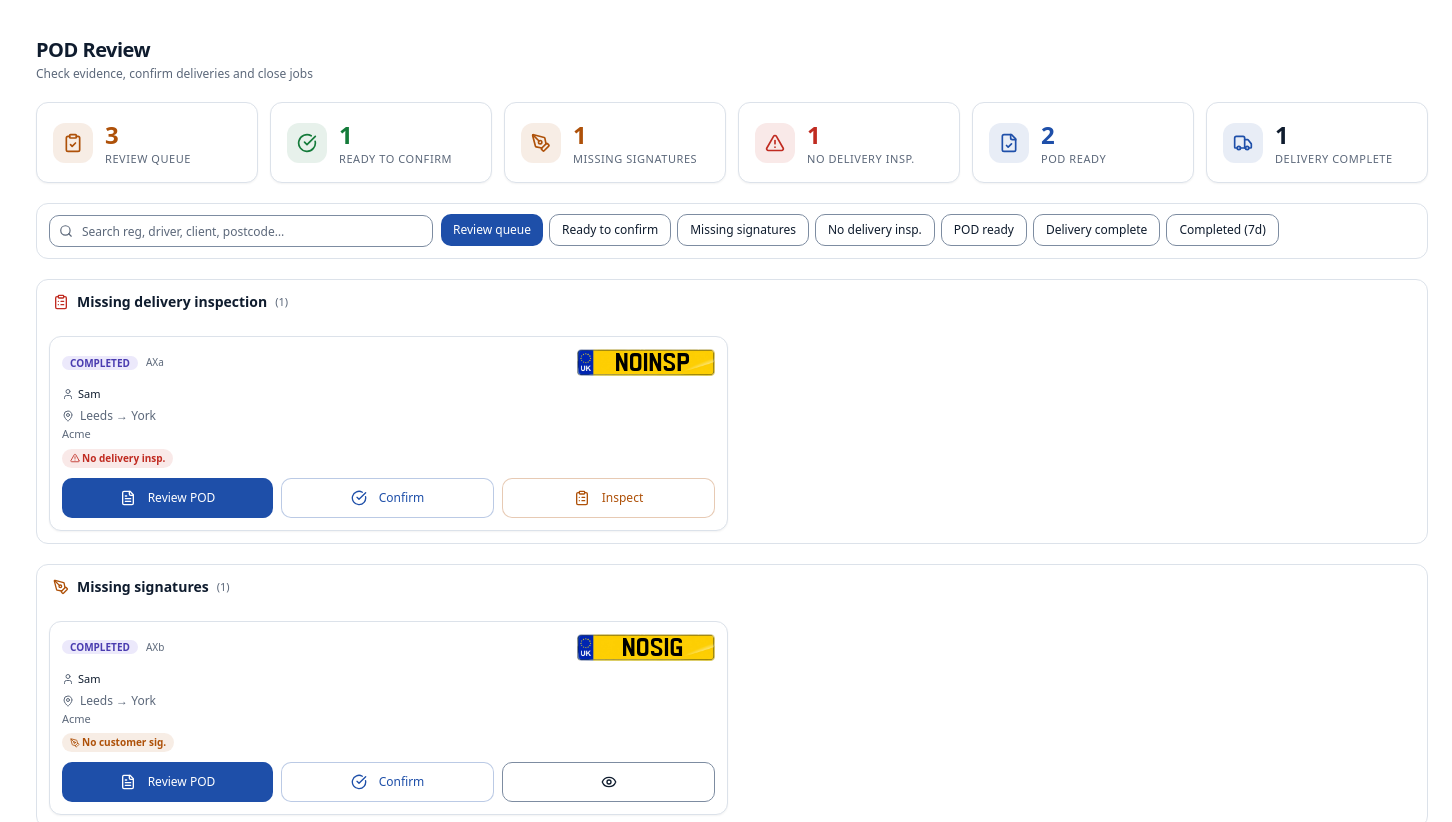
Scenario: POD review screen › Inspect is offered only where the delivery inspection is missing
Click the button "Inspect": (608, 498) [502, 478, 715, 518]
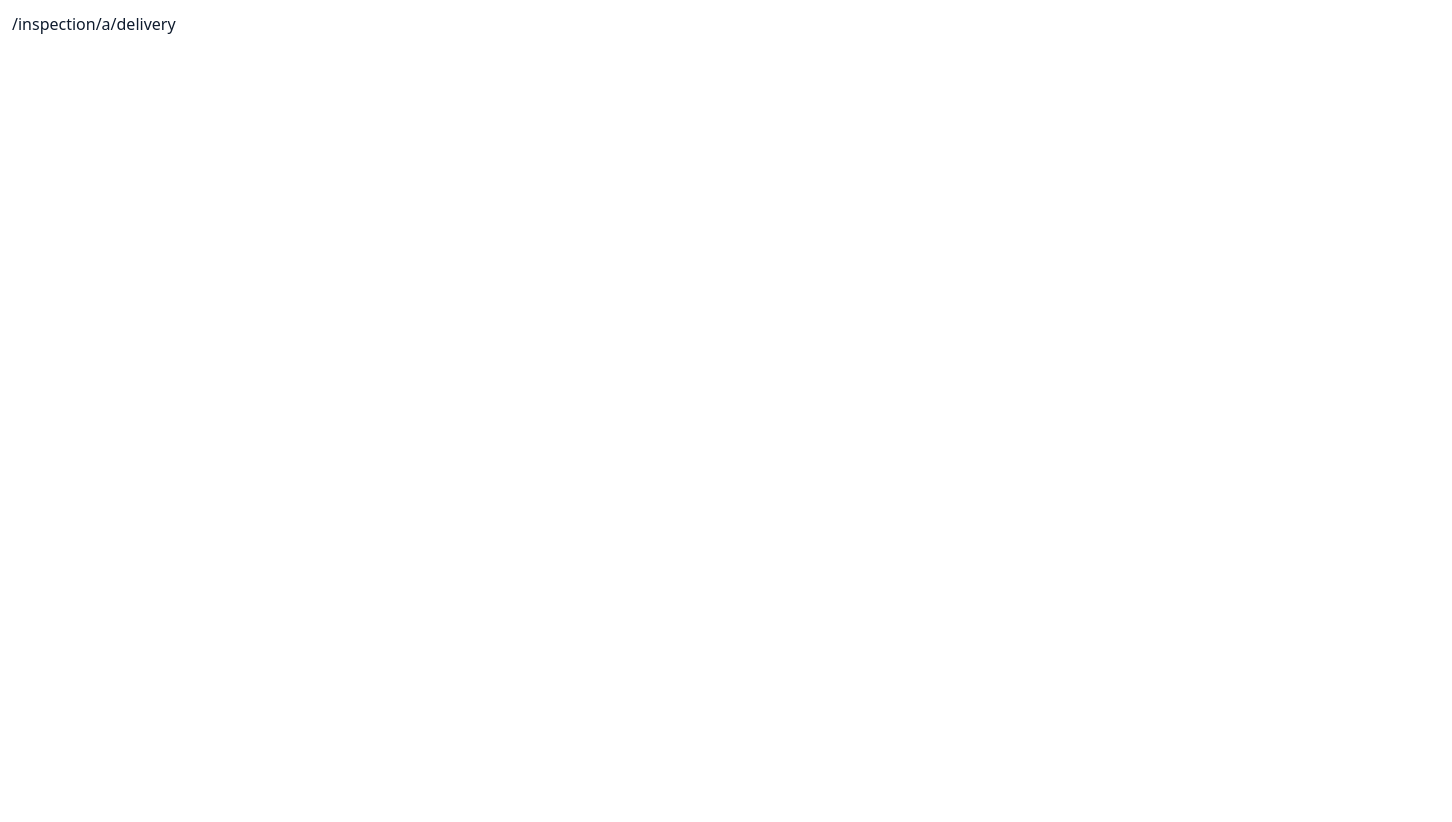
Expected: the text with test id "loc" reads "/inspection/a/delivery", [12, 13, 176, 35]
